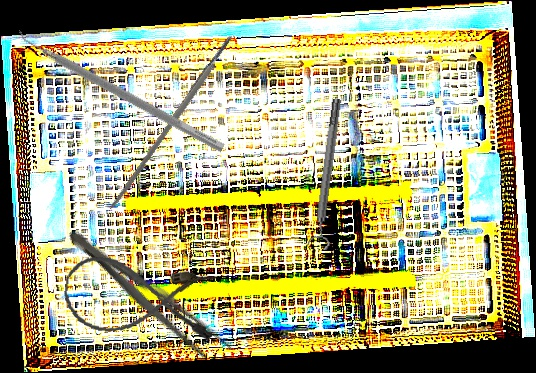Cannula: (59, 252, 221, 347)
Dressing Forceps: (59, 220, 237, 370)
Fixation Ring: (305, 97, 350, 251)
Scalpel Handle: (107, 33, 237, 212)
Spatula Surgical: (12, 24, 231, 153)
